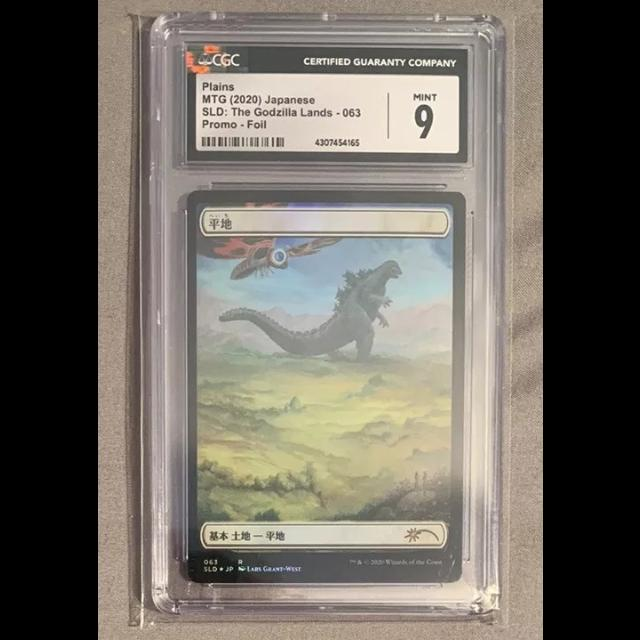card: (186, 189, 466, 584)
cgc_label: (183, 41, 470, 164)
cgc_slab: (149, 10, 507, 617)
